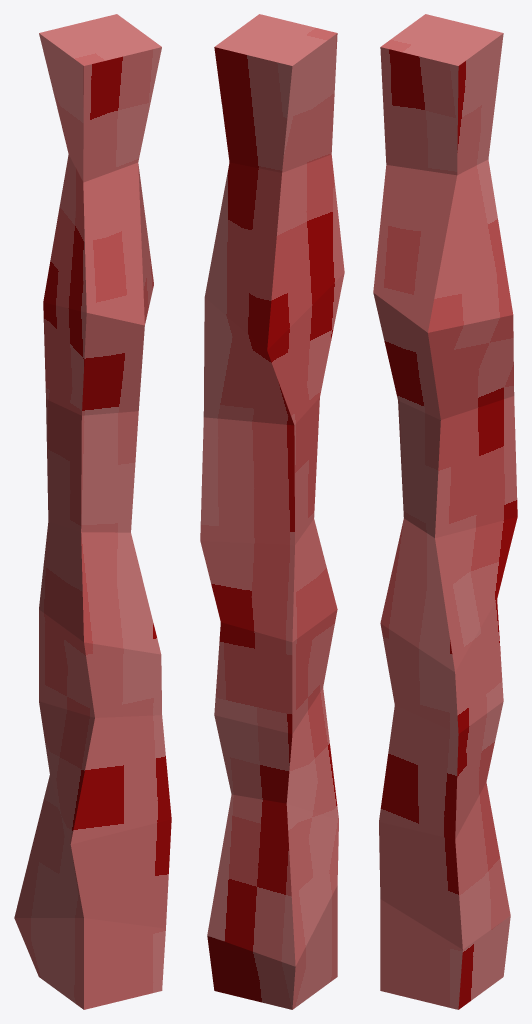
The model's file is WallPillar.fbx.
The picture shows the model from 3 angles, left to right: view 1: azimuth 30°, elevation 25°; view 2: azimuth 150°, elevation 25°; view 3: azimuth 330°, elevation 25°; orthographic projection.
Parts seen in each view (by area): view 1: Cube; view 2: Cube; view 3: Cube.
Boxes of the visible parts, bbox=[...] form: Cube: bbox=[14, 14, 171, 1009]; Cube: bbox=[200, 14, 344, 1009]; Cube: bbox=[373, 14, 517, 1009].
Bounding box in the file's own units: 295 × 2308 × 277.
